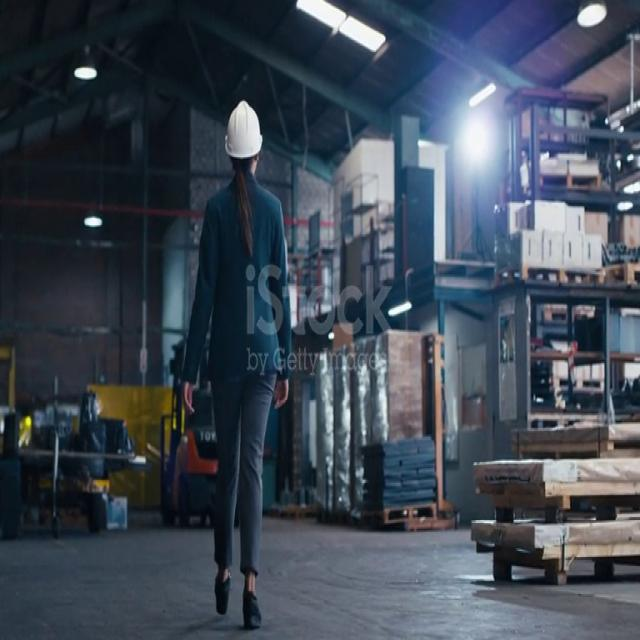capacete: (221, 96, 270, 176)
